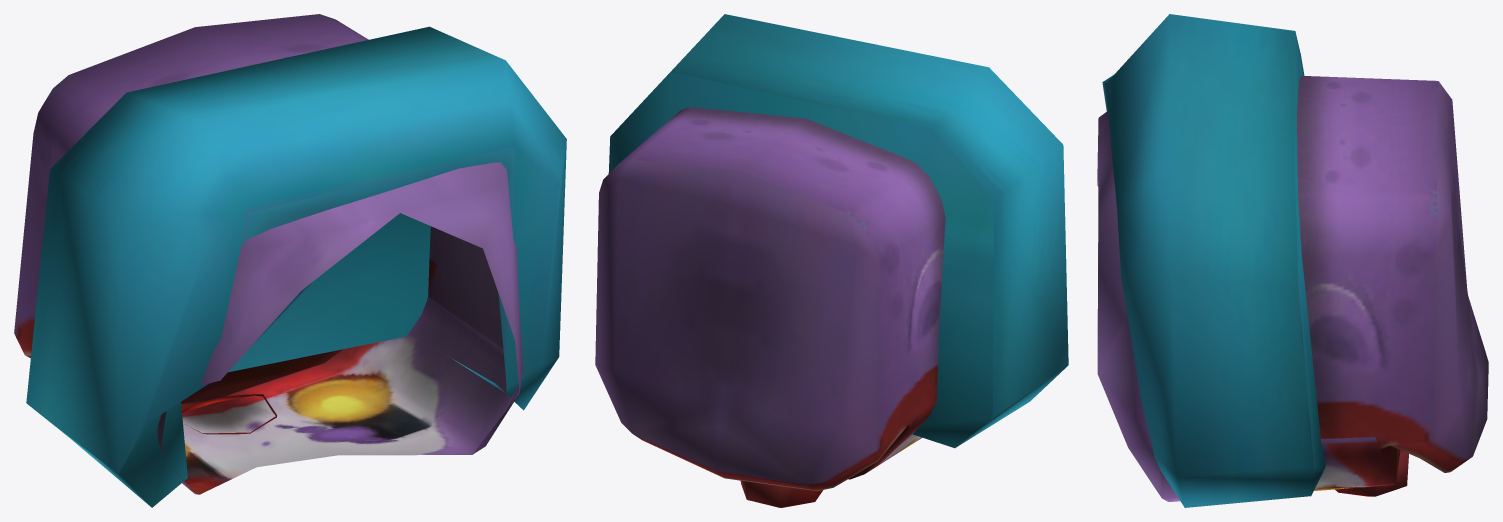
The model's file is Zombie_Broken_Clown_Head01_965f41d7__Zombie_Clown_Purple_d1673b3b_c1f257.obj.
3 views of the same model, side by side, from view 1: azimuth 30°, elevation 25°; view 2: azimuth 150°, elevation 25°; view 3: azimuth 270°, elevation 25° (orthographic). The views are drawn at different scales.
Size of the model in its own units: 0.9365 by 0.9036 by 0.7568.
Materials: 1 (1 with a texture image).
